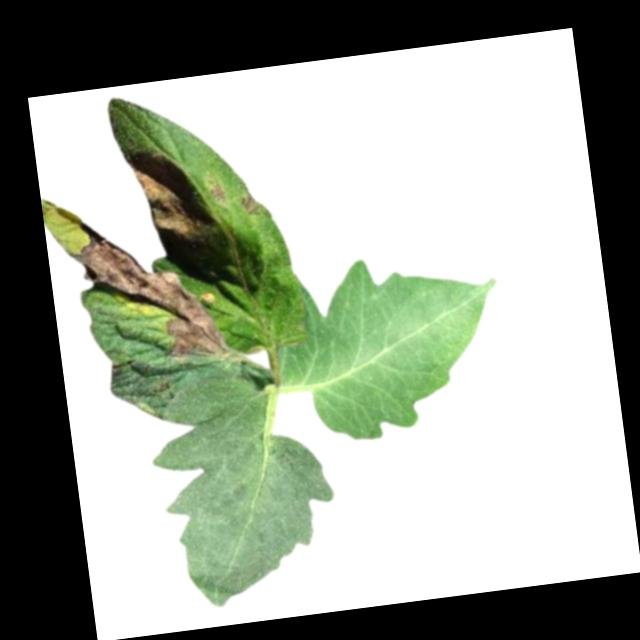Late_blight: (68, 208, 234, 373), (127, 143, 214, 260), (206, 168, 228, 206), (238, 191, 263, 215)
healthy: (266, 239, 517, 451), (145, 388, 349, 614)
